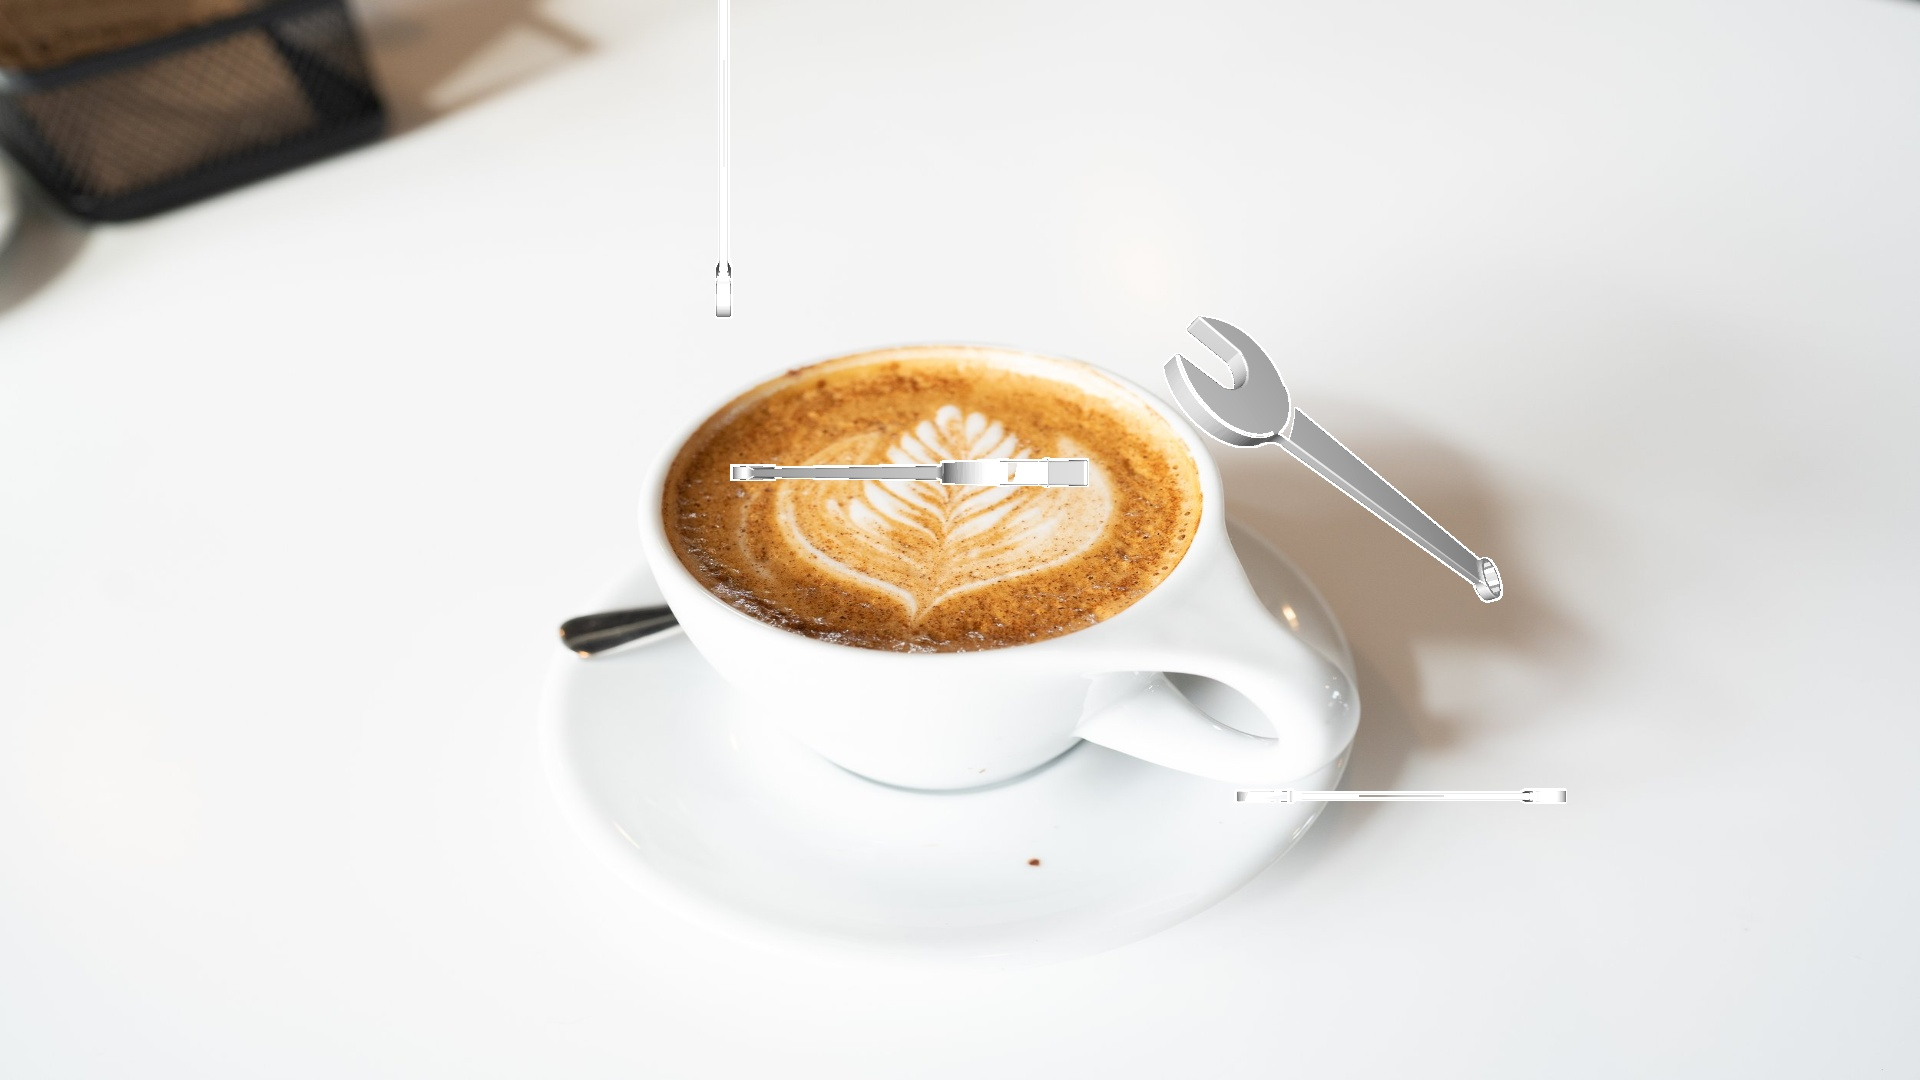Mixed Key: (1163, 315, 1502, 603), (731, 458, 1088, 487), (715, 0, 732, 318), (1234, 789, 1567, 803)
